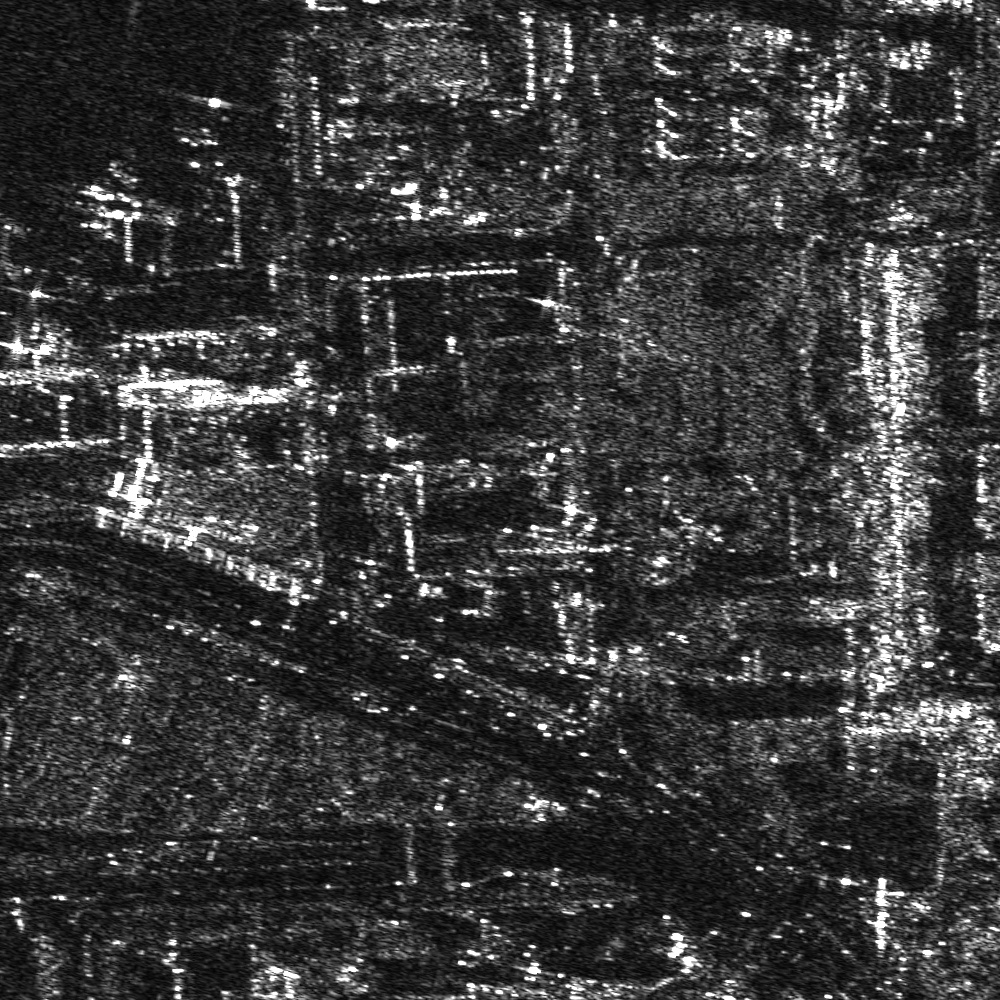A220: (165, 89, 256, 185)
